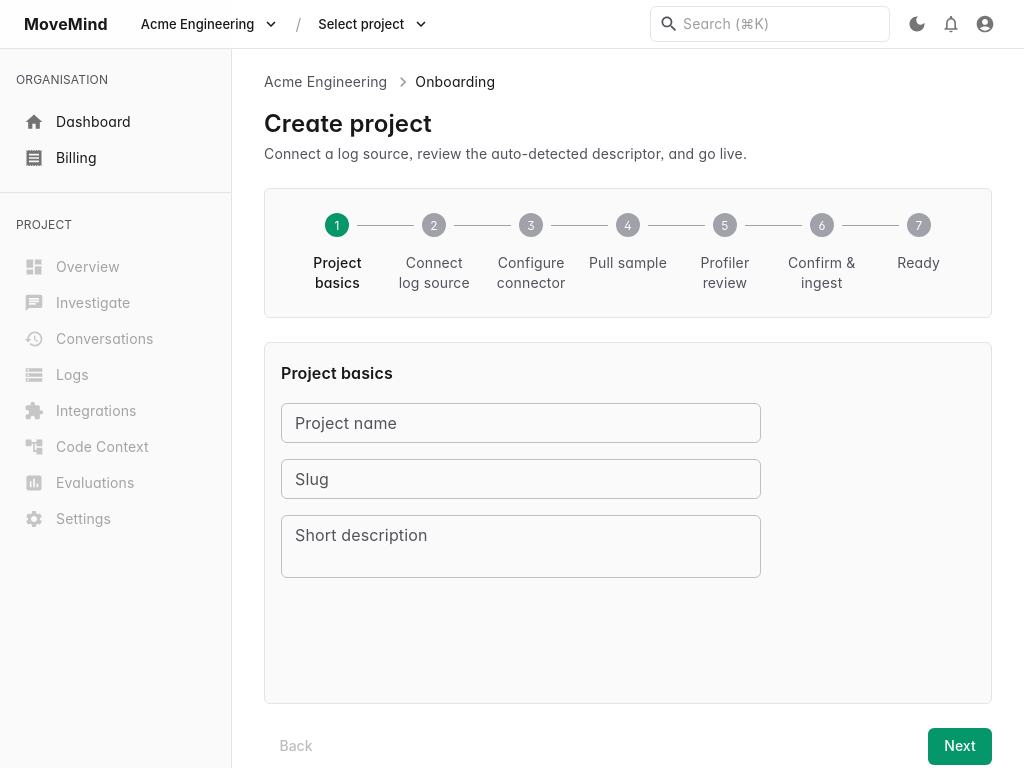
Test: OnboardingWizard › back button is enabled after advancing
The image size is (1024, 768).
Click the button "Next" at (960, 746), box x1=928 y1=728 x2=992 y2=765
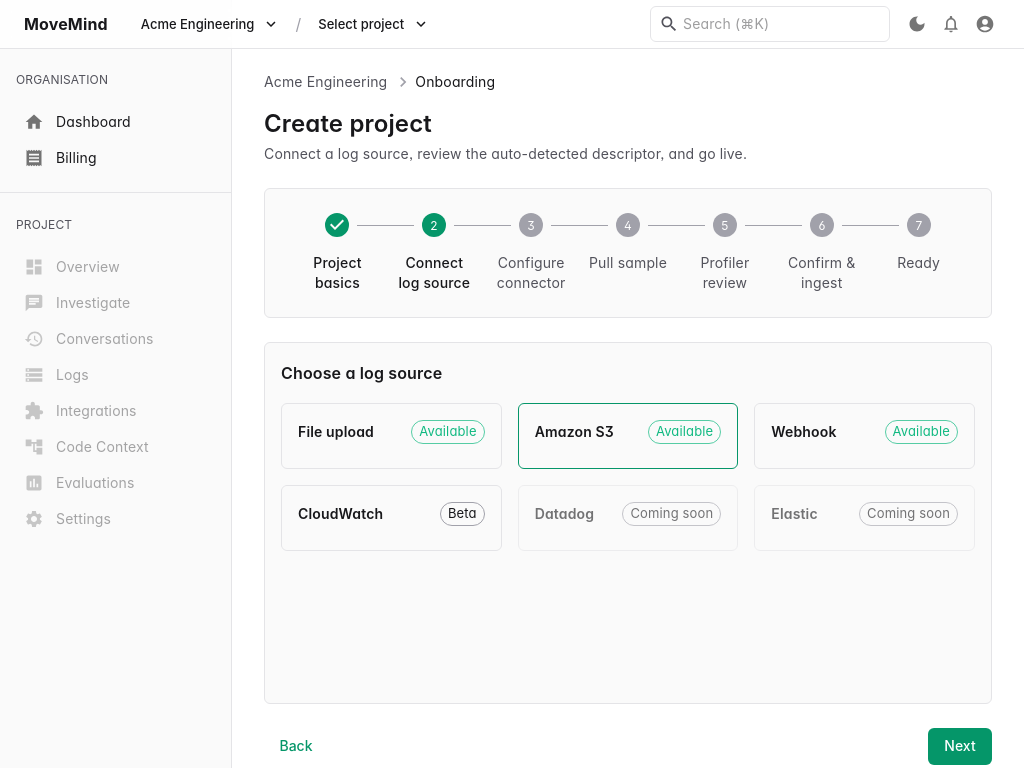
expect the button "Back" is enabled: met, box x1=264 y1=728 x2=328 y2=765
